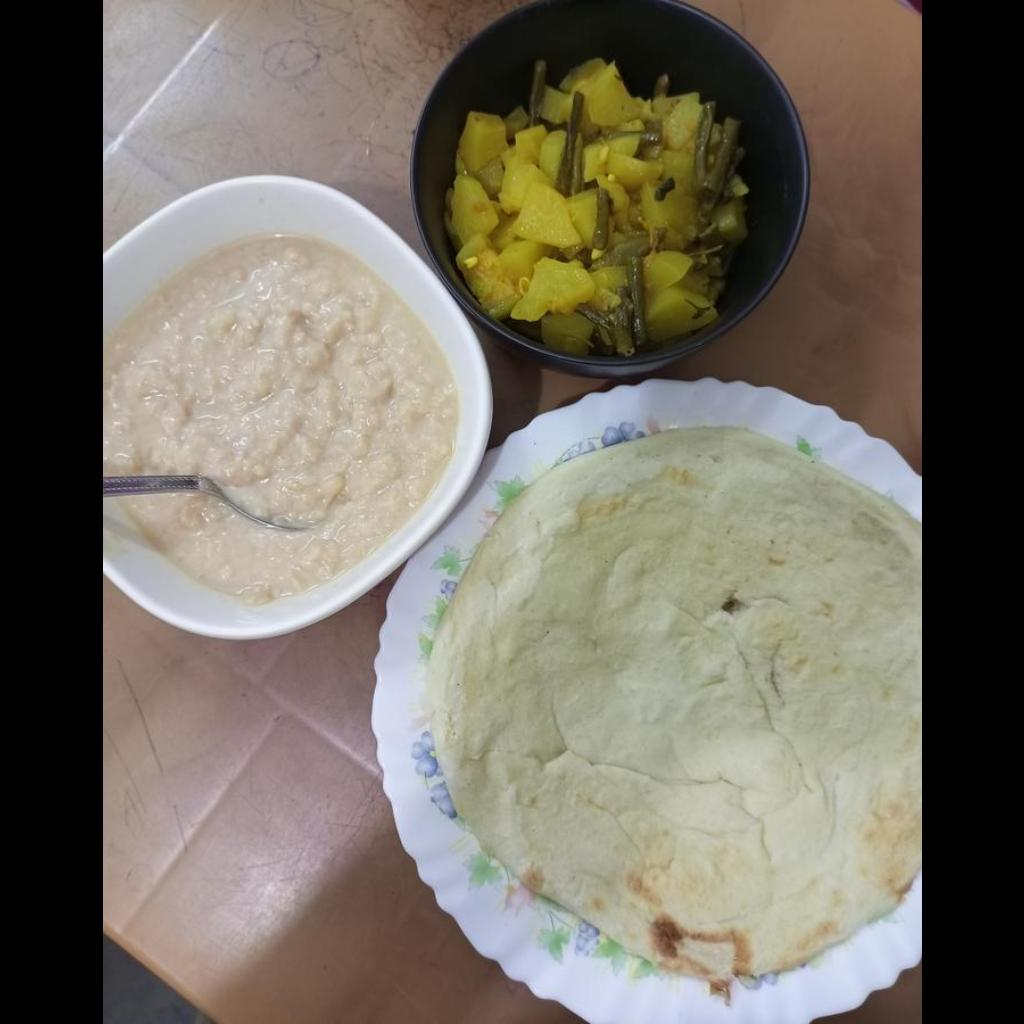payesh: (102, 236, 460, 604)
ruti: (431, 431, 920, 974)
vegetable: (418, 56, 749, 360)
